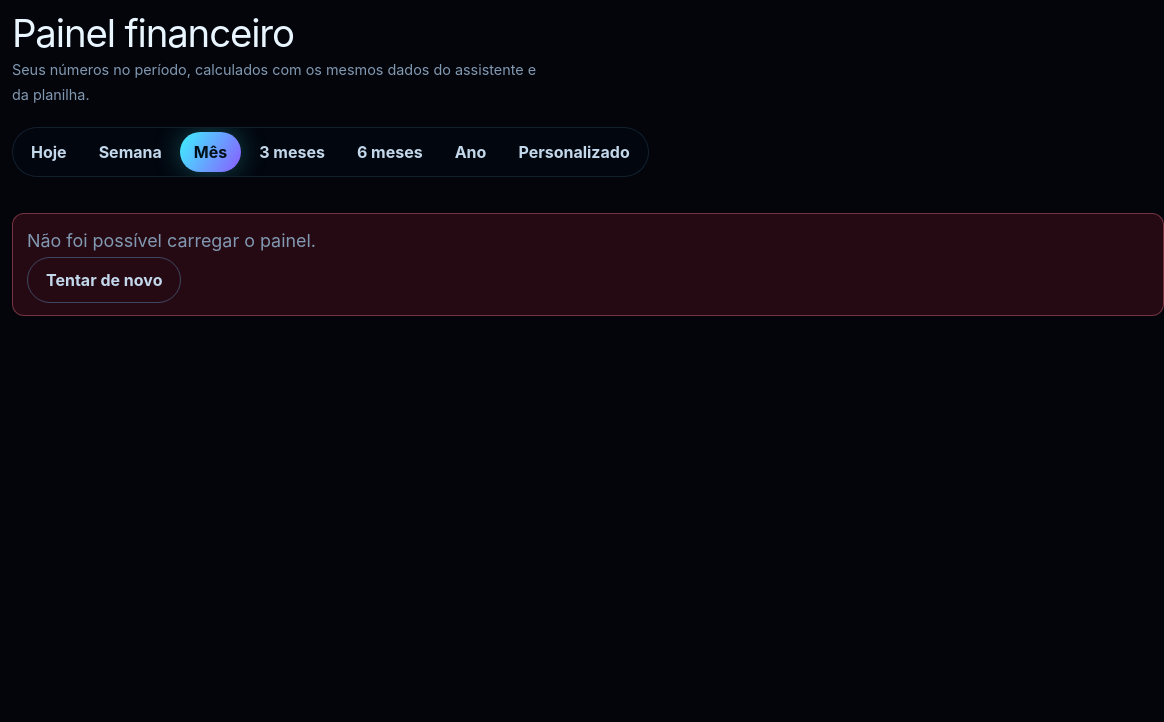
Scenario: DashboardPage › reports a load failure and retries
Check: the message shows "Não foi possível carregar o painel.", box [27,230,316,251]
Click the button "Tentar de novo": (104, 280) [27,257,182,303]
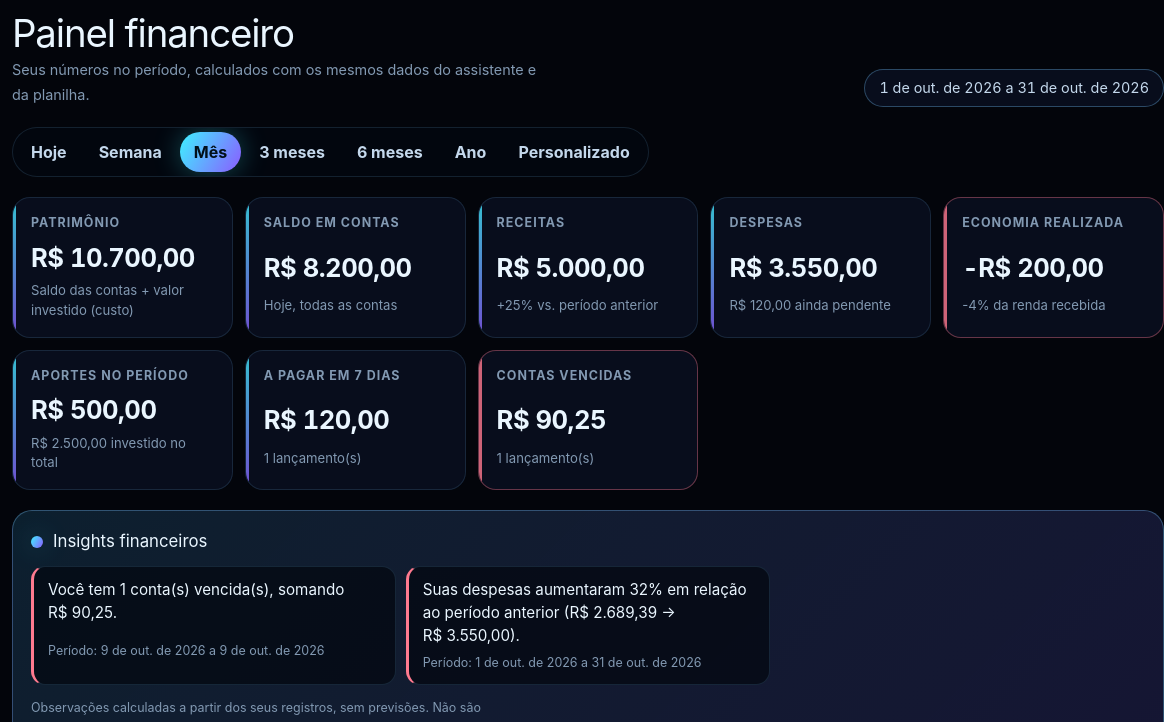
Check: the text "R$ 10.700,00" is shown, box [31,239,214,277]
